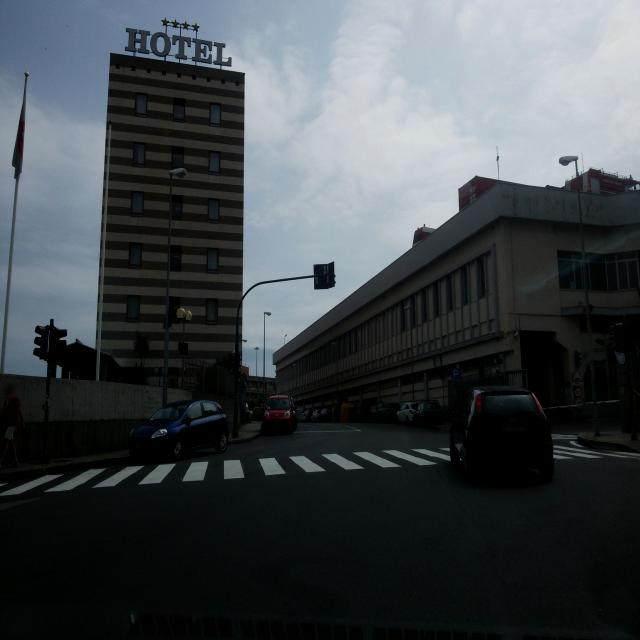car: (449, 384, 554, 479), (128, 398, 229, 462), (261, 395, 297, 434), (413, 399, 443, 427), (372, 402, 400, 423), (396, 401, 418, 424), (321, 406, 333, 422), (310, 408, 322, 422)
